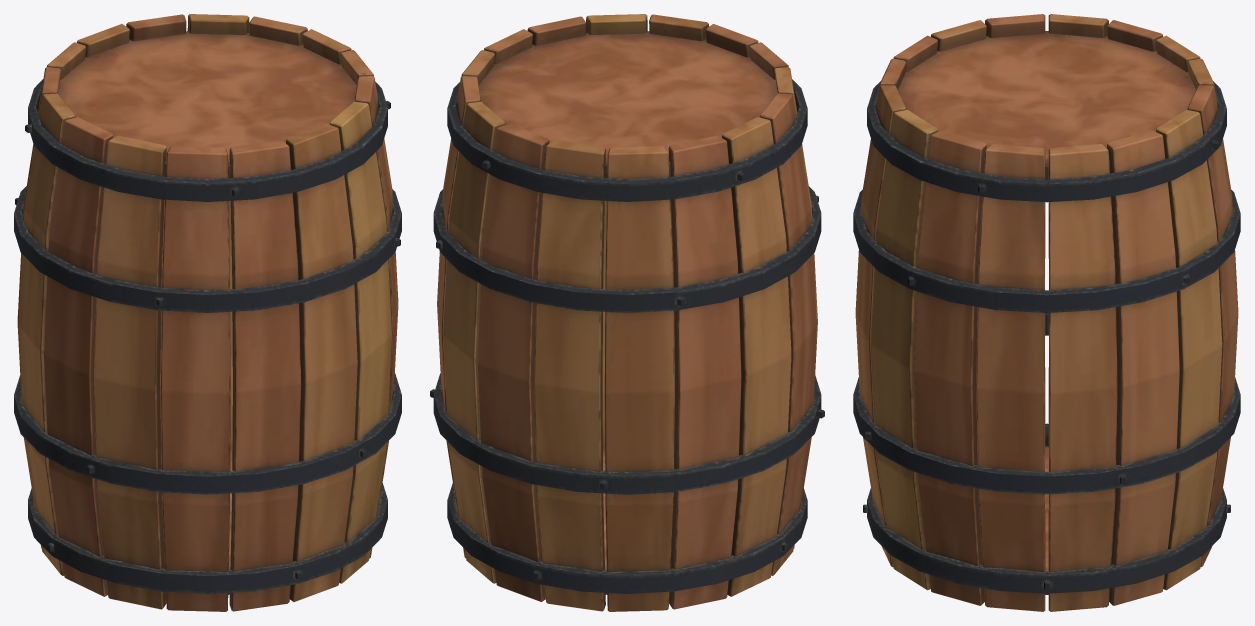
The model's file is wood_barrel-v001.glb.
3 renders of one model, left to right at view 1: azimuth 30°, elevation 25°; view 2: azimuth 150°, elevation 25°; view 3: azimuth 270°, elevation 25°, orthographic.
Visible parts, largest first — view 1: WoodBarrel; view 2: WoodBarrel; view 3: WoodBarrel.
Boxes of the visible parts, x1,y1,x2,y2 form: WoodBarrel: (14, 14, 401, 611); WoodBarrel: (430, 14, 824, 611); WoodBarrel: (853, 14, 1240, 611).
Size of the model in its own units: 0.7356 by 0.96 by 0.7356.
Materials: 1 (1 with a texture image).
